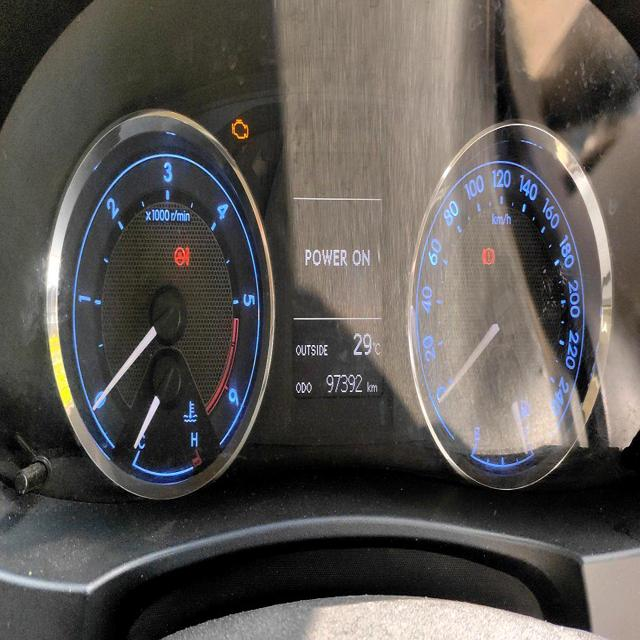odometer: (325, 370, 363, 395)
